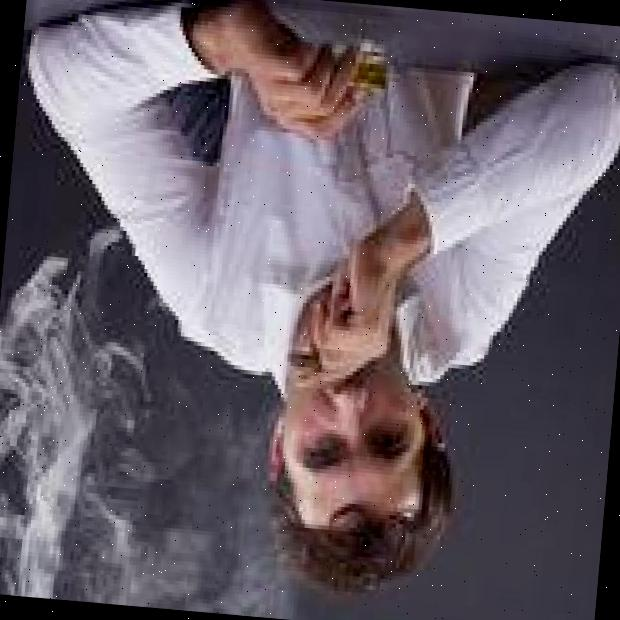smoke: (0, 264, 132, 603), (116, 460, 265, 616)
